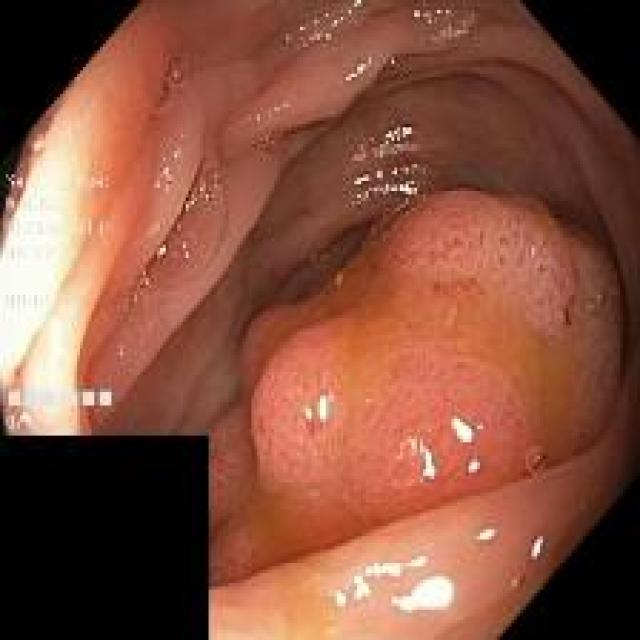Polyps: (242, 191, 624, 563)
